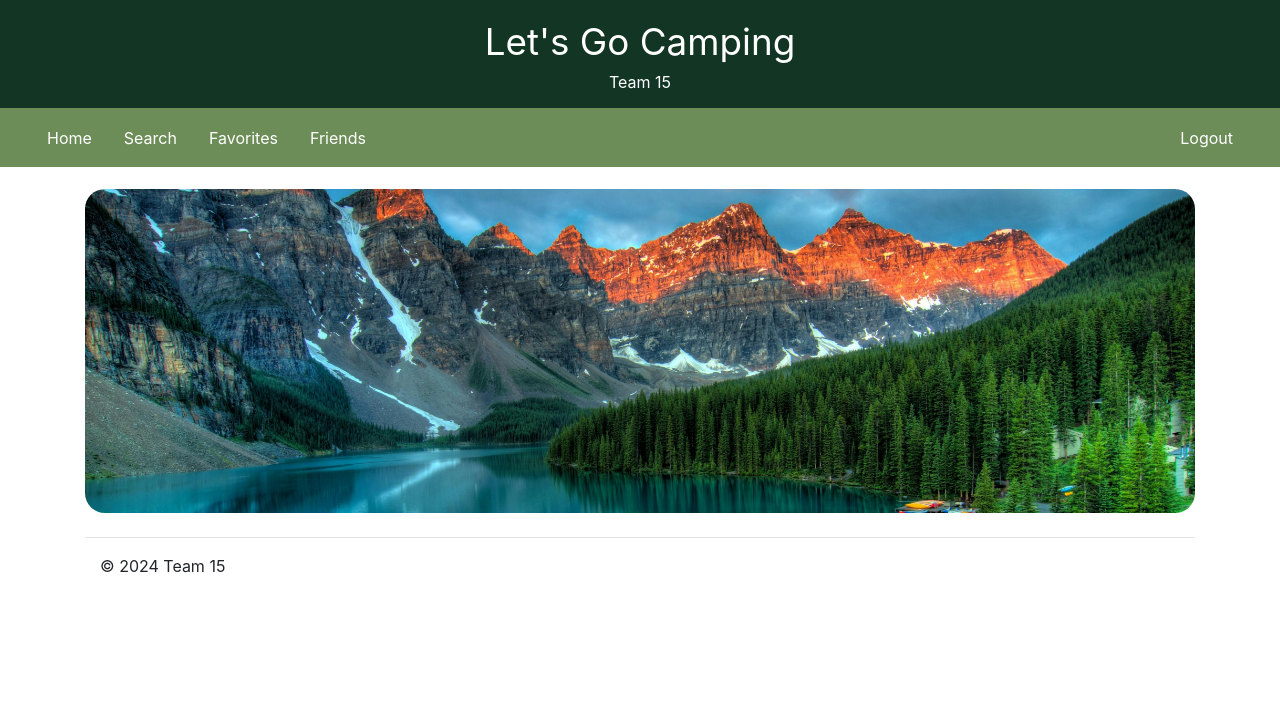
Test: App Component Navigation Tests › logs out and redirects to home page
The image size is (1280, 720).
Click the link "Logout" at (1207,138), box [1180,128,1233,148]
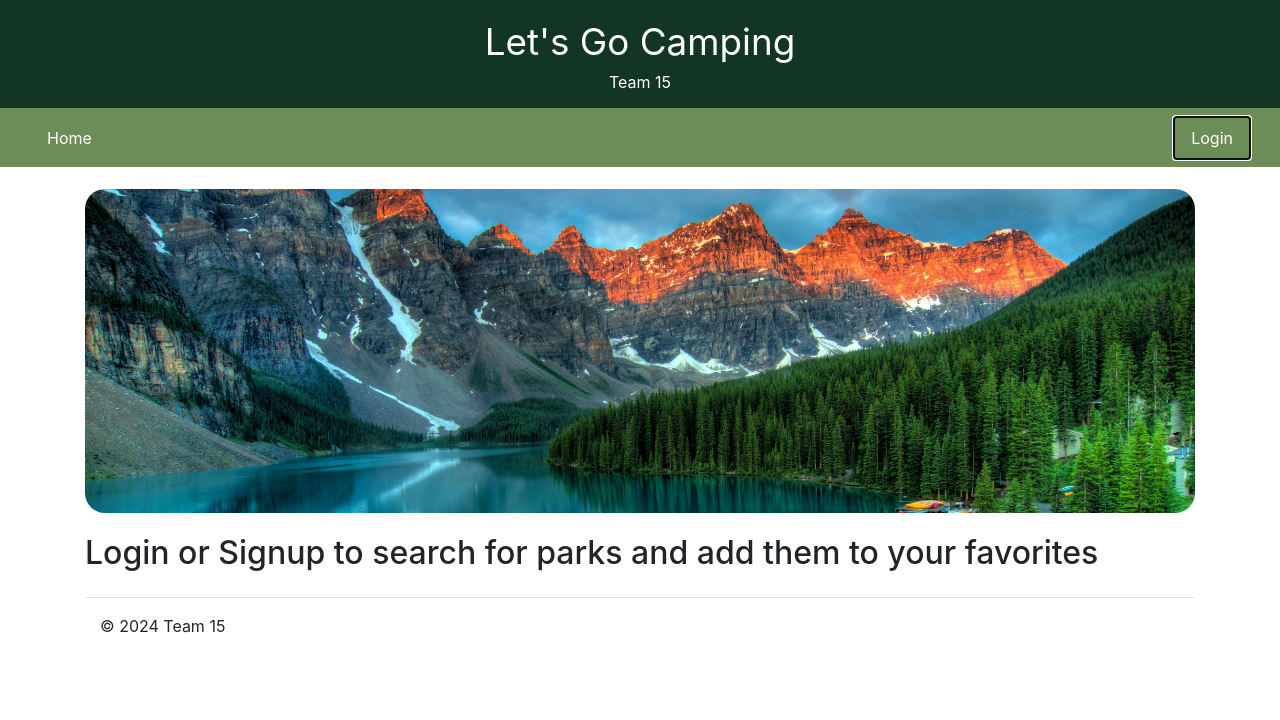
expect the text "Let's Go Camping" is shown: met, box [485,19,795,64]
expect the link "Login" is shown: met, box [1191,128,1233,148]
